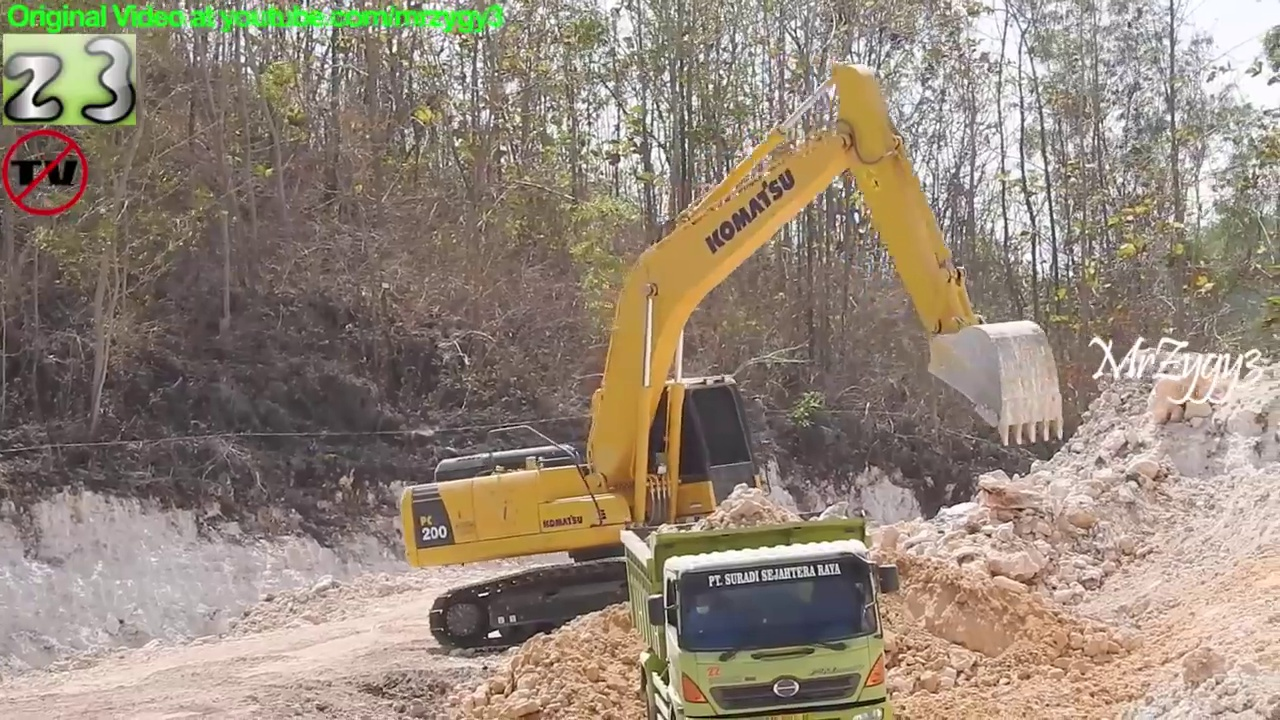excavator: (392, 55, 1072, 665)
truck: (619, 500, 902, 720)
